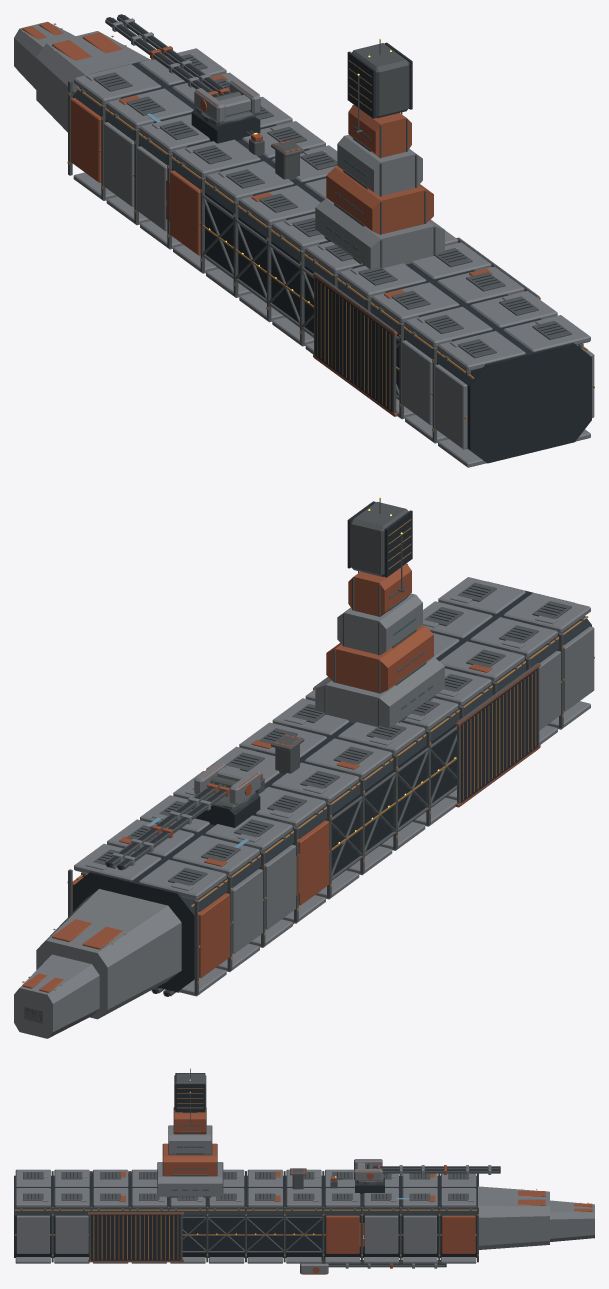
The model's file is mars_escort.glb.
The picture shows the model from 3 angles, top to bottom: view 1: azimuth 30°, elevation 25°; view 2: azimuth 150°, elevation 25°; view 3: azimuth 270°, elevation 25°; orthographic projection. The views are drawn at different scales.
Parts seen in each view (by area): view 1: FleetHull, mesh_recoil_gun_1, mesh_turret_gun_1; view 2: FleetHull, mesh_recoil_gun_1, mesh_turret_gun_1; view 3: FleetHull, mesh_recoil_gun_1, mesh_turret_gun_1, mesh_recoil_gun_2, mesh_turret_gun_2.
Part boxes in pixels (x1,y1,x2,y2): FleetHull: [14, 21, 594, 467]; mesh_recoil_gun_1: [105, 14, 241, 100]; mesh_turret_gun_1: [194, 79, 260, 126]; FleetHull: [14, 496, 594, 1038]; mesh_recoil_gun_1: [105, 776, 237, 870]; mesh_turret_gun_1: [194, 761, 260, 810]; FleetHull: [14, 1067, 594, 1263]; mesh_recoil_gun_1: [367, 1163, 500, 1174]; mesh_turret_gun_1: [354, 1159, 383, 1183]; mesh_recoil_gun_2: [328, 1260, 446, 1268]; mesh_turret_gun_2: [300, 1260, 328, 1274].
Size of the model in its own units: 46.01 by 104 by 271.
